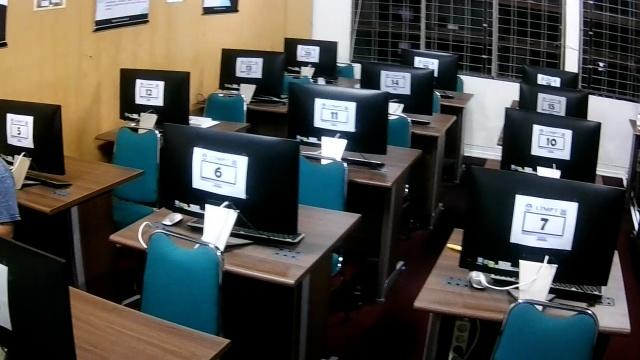AIO PC-Monitor-TV: (458, 165, 626, 310), (156, 122, 301, 252), (286, 81, 389, 169), (497, 105, 601, 184)
Meja: (106, 196, 361, 286)
